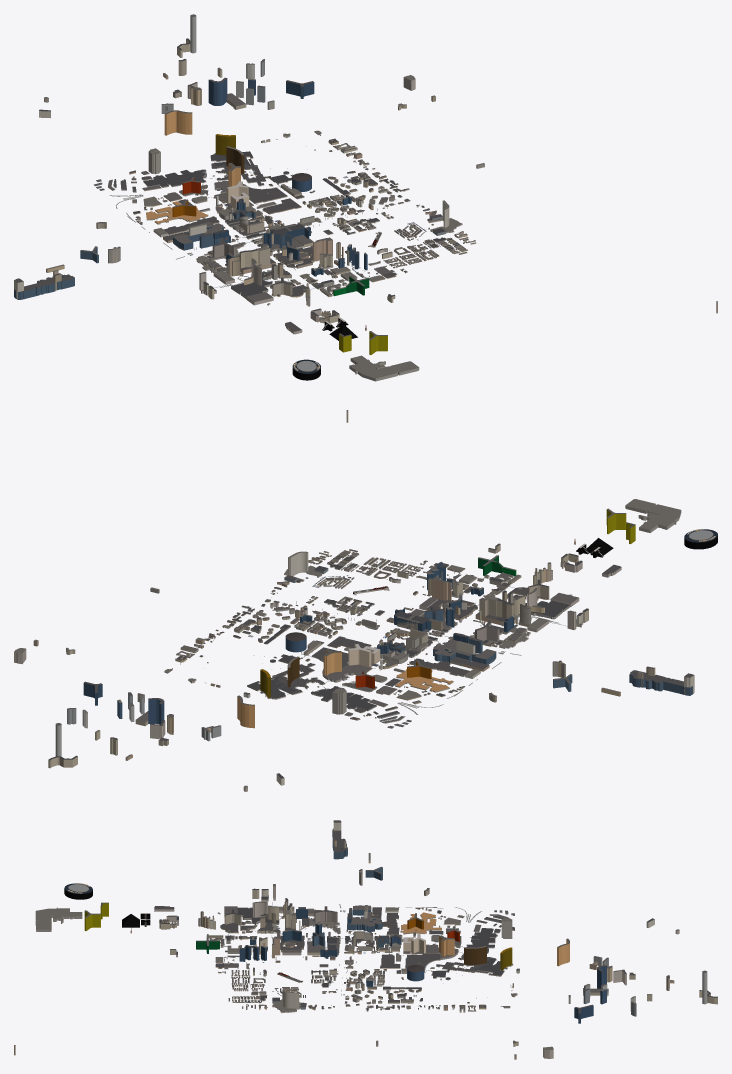
File: scenery.glb
The picture shows the model from 3 angles, top to bottom: view 1: azimuth 30°, elevation 25°; view 2: azimuth 150°, elevation 25°; view 3: azimuth 270°, elevation 25°; orthographic projection. The views are drawn at different scales.
Visible parts, largest first — view 1: chunk_13_14, chunk_12_22, chunk_13_16, chunk_15_11, chunk_12_16, chunk_13_13, chunk_12_15, chunk_14_13, chunk_8_15, chunk_14_15, chunk_12_17, chunk_16_8 (+11 smaller); view 2: chunk_13_14, chunk_12_16, chunk_12_22, chunk_14_15, chunk_13_16, chunk_13_13, chunk_14_13, chunk_15_11, chunk_12_15, chunk_8_15, chunk_17_16, chunk_12_17 (+14 smaller); view 3: chunk_13_14, chunk_15_11, chunk_14_13, chunk_12_17, chunk_12_22, chunk_14_15, chunk_14_16, chunk_13_13, chunk_14_14, chunk_12_15, chunk_17_16, chunk_13_16 (+14 smaller).
Boxes of the visible parts, x1=… form: chunk_13_14: x1=163, y1=213, x2=265, y2=250; chunk_12_22: x1=349, y1=355, x2=419, y2=381; chunk_13_16: x1=240, y1=243, x2=314, y2=273; chunk_15_11: x1=210, y1=134, x2=253, y2=173; chunk_12_16: x1=203, y1=249, x2=258, y2=284; chunk_13_13: x1=146, y1=199, x2=227, y2=224; chunk_12_15: x1=187, y1=233, x2=245, y2=273; chunk_14_13: x1=213, y1=181, x2=276, y2=211; chunk_8_15: x1=14, y1=270, x2=74, y2=299; chunk_14_15: x1=255, y1=223, x2=312, y2=248; chunk_12_17: x1=220, y1=258, x2=272, y2=298; chunk_16_8: x1=187, y1=77, x2=227, y2=105; chunk_13_14: x1=403, y1=629, x2=496, y2=676; chunk_12_16: x1=491, y1=599, x2=549, y2=642; chunk_12_22: x1=625, y1=499, x2=681, y2=532; chunk_14_15: x1=390, y1=606, x2=443, y2=636; chunk_13_16: x1=426, y1=595, x2=515, y2=626; chunk_13_13: x1=385, y1=660, x2=453, y2=692; chunk_14_13: x1=342, y1=642, x2=394, y2=674; chunk_15_11: x1=247, y1=656, x2=306, y2=699; chunk_12_15: x1=448, y1=620, x2=530, y2=654; chunk_8_15: x1=629, y1=666, x2=694, y2=695; chunk_17_16: x1=277, y1=551, x2=342, y2=587; chunk_12_17: x1=511, y1=588, x2=570, y2=623; chunk_13_14: x1=347, y1=905, x2=399, y2=945; chunk_15_11: x1=464, y1=946, x2=513, y2=976; chunk_14_13: x1=390, y1=933, x2=438, y2=961; chunk_12_17: x1=237, y1=901, x2=279, y2=925; chunk_12_22: x1=35, y1=907, x2=82, y2=931; chunk_14_15: x1=307, y1=932, x2=354, y2=958; chunk_14_16: x1=274, y1=929, x2=325, y2=957; chunk_13_13: x1=398, y1=912, x2=441, y2=941; chunk_14_14: x1=352, y1=934, x2=402, y2=954; chunk_12_15: x1=293, y1=906, x2=352, y2=933; chunk_17_16: x1=272, y1=989, x2=316, y2=1013; chunk_13_16: x1=272, y1=910, x2=314, y2=952.
Bounding box in the file's own units: 5286 × 360 × 7136.
